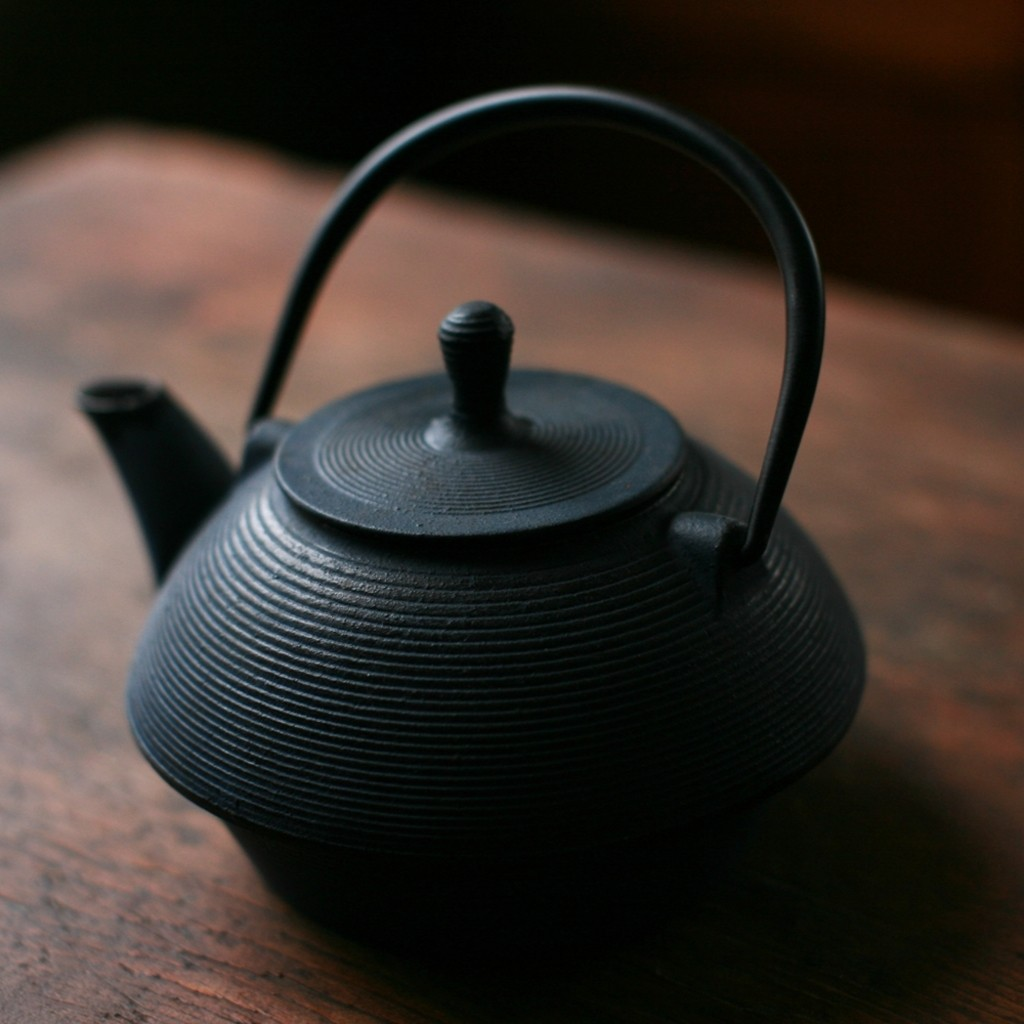teapot: (74, 78, 869, 869)
